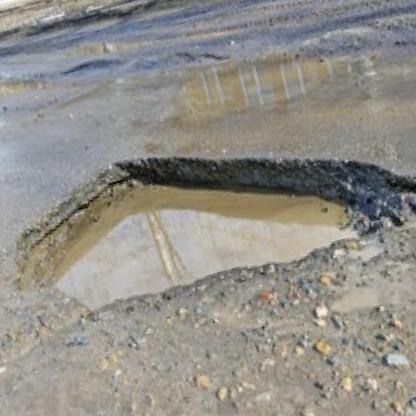pothole: (0, 93, 404, 341)
